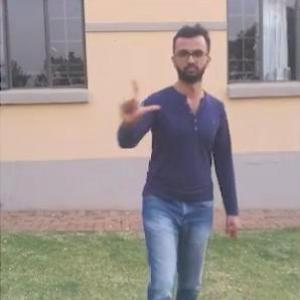land_hand: (120, 74, 171, 134)
